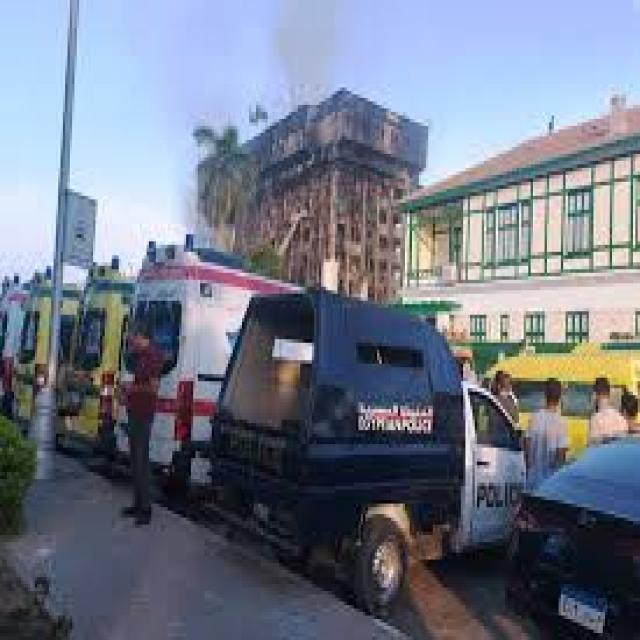Ambulance: (108, 222, 282, 480), (54, 250, 150, 442), (18, 261, 58, 432)
person: (119, 322, 168, 524), (526, 374, 568, 490), (584, 374, 628, 444), (489, 367, 519, 430), (619, 392, 638, 434)
police-car: (226, 290, 551, 600)
